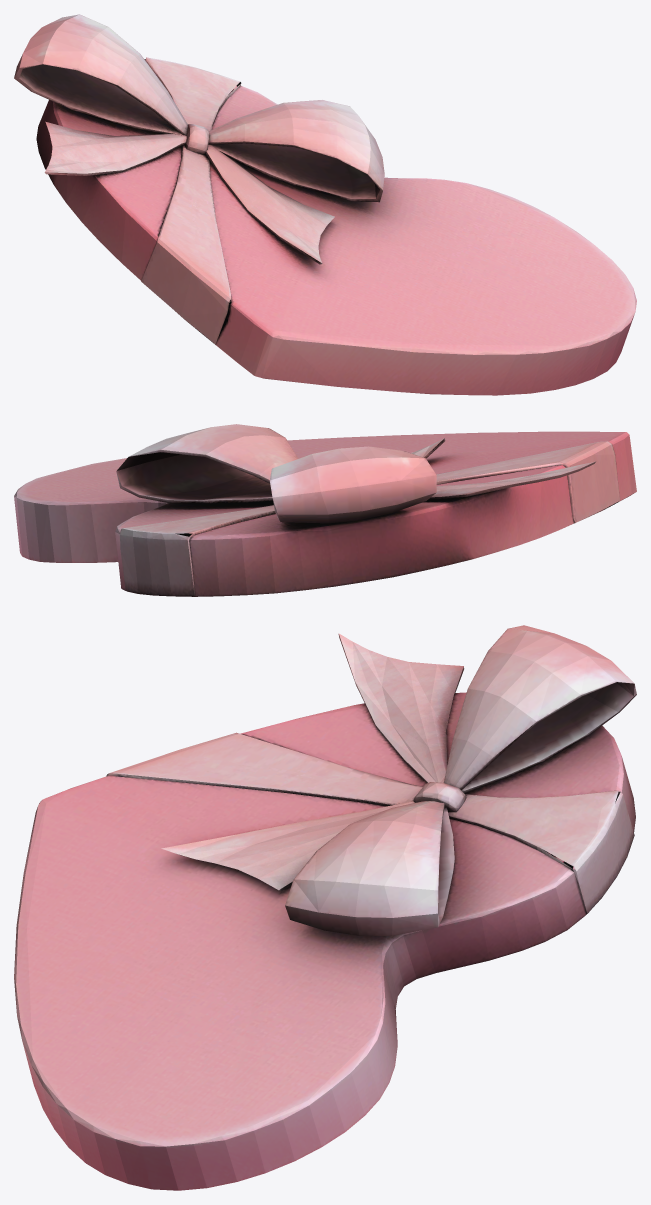
File: cover.obj
3 views of the same model, one above another, from view 1: azimuth 30°, elevation 25°; view 2: azimuth 150°, elevation 25°; view 3: azimuth 270°, elevation 25° (orthographic). The views are drawn at different scales.
Parts seen in each view (by area): view 1: dynamic; view 2: dynamic; view 3: dynamic.
Boxes of the visible parts, x1,y1,x2,y2 form: dynamic: [14, 14, 636, 395]; dynamic: [14, 424, 636, 596]; dynamic: [14, 625, 636, 1190].
Bounding box in the file's own units: 1.57 × 0.8048 × 1.4.
1 material, 1 textured.
